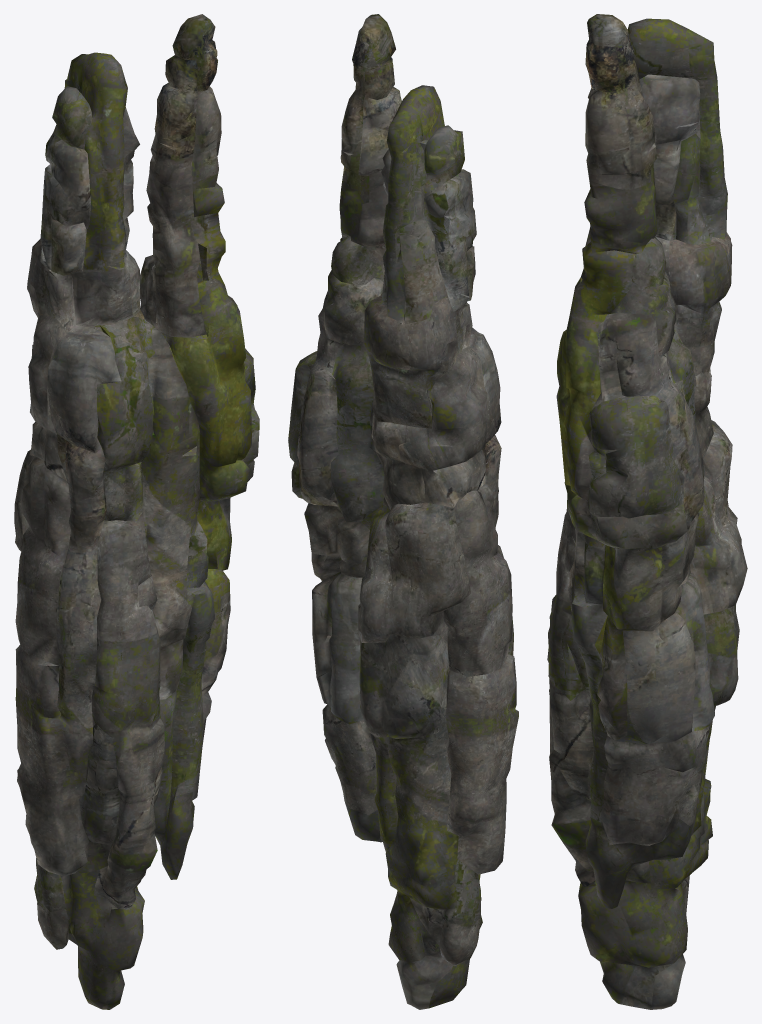
Rendered from Rock8.fbx.
The picture shows the model from 3 angles, left to right: view 1: azimuth 30°, elevation 25°; view 2: azimuth 150°, elevation 25°; view 3: azimuth 270°, elevation 25°; orthographic projection. The views are drawn at different scales.
Visible parts, largest first — view 1: LV_Veolan_Cliff01_SM_IJH; view 2: LV_Veolan_Cliff01_SM_IJH; view 3: LV_Veolan_Cliff01_SM_IJH.
Boxes of the visible parts, left/top/right/bottom form: LV_Veolan_Cliff01_SM_IJH: left=14, top=14, right=259, bottom=1009; LV_Veolan_Cliff01_SM_IJH: left=288, top=14, right=518, bottom=1009; LV_Veolan_Cliff01_SM_IJH: left=547, top=14, right=747, bottom=1009.
Bounding box in the file's own units: 6.03 × 25.27 × 4.45.
Materials: 1 (1 with a texture image).
